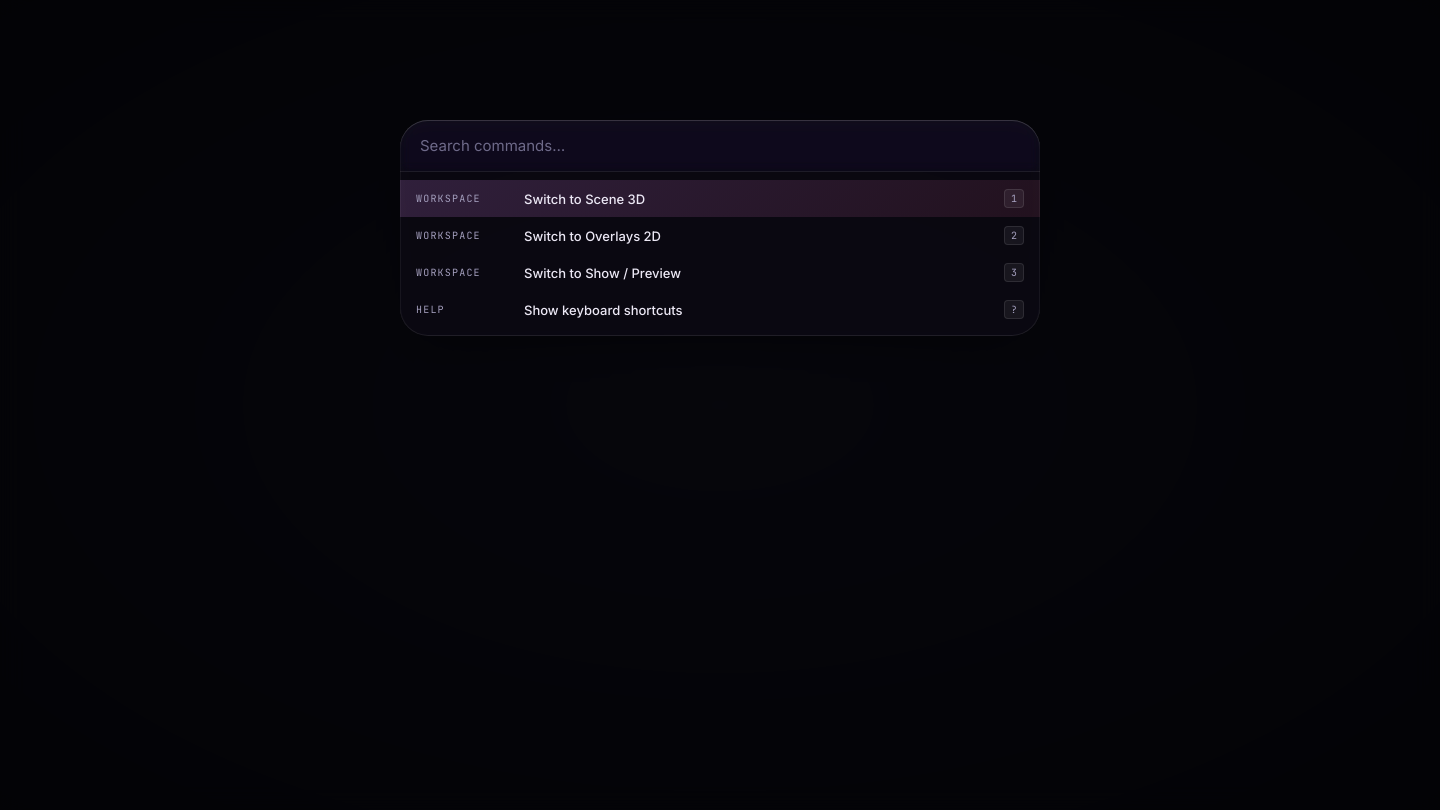
Test: CommandPalette › shows empty state when no command matches
This screenshot has width=1440, height=810.
Type "zzzzzznomatch" into the dropdown at (720, 146), box [400,120,1040,172]
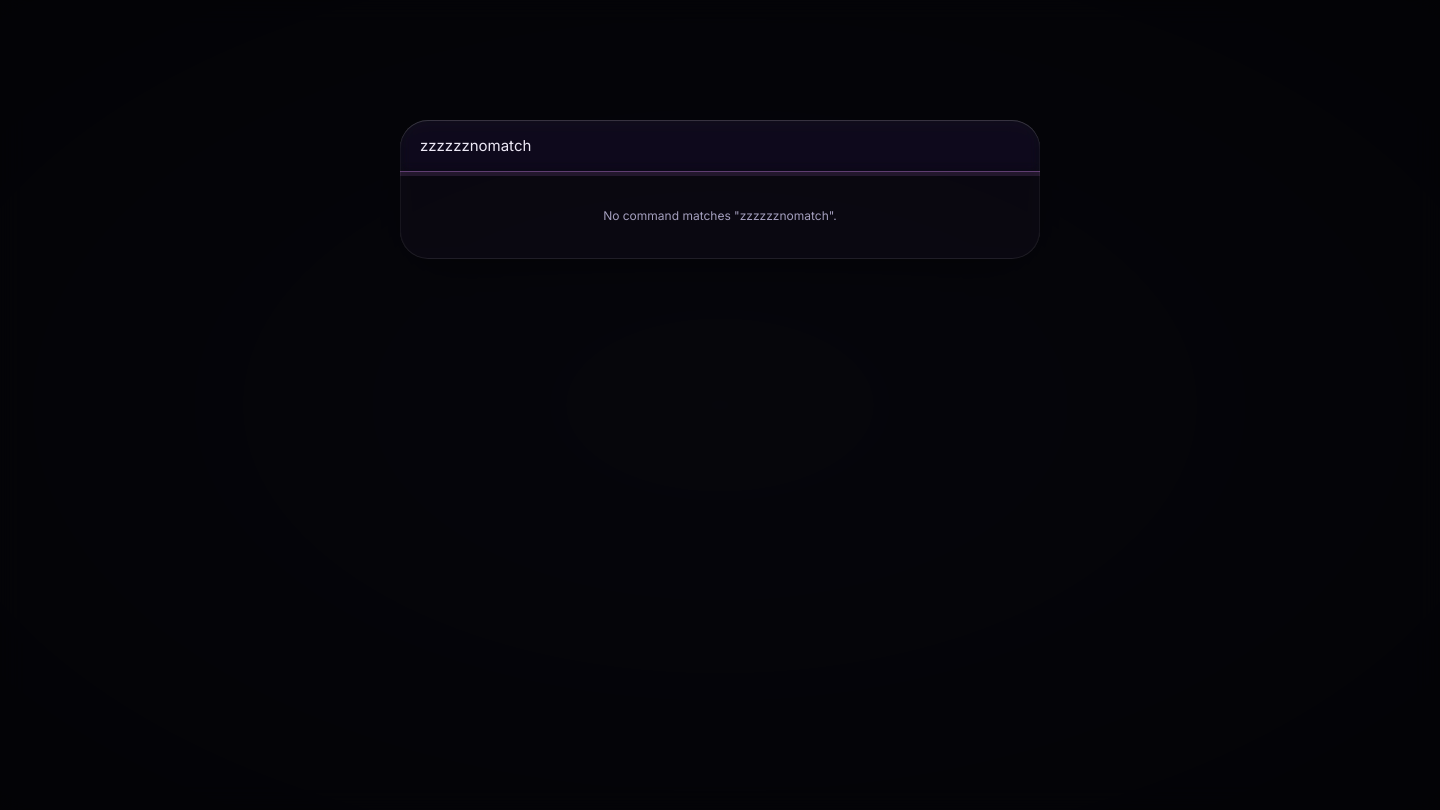
Result: the list item "No command matches \"zzzzzznomatch\"." is shown at [603,208,837,223]
